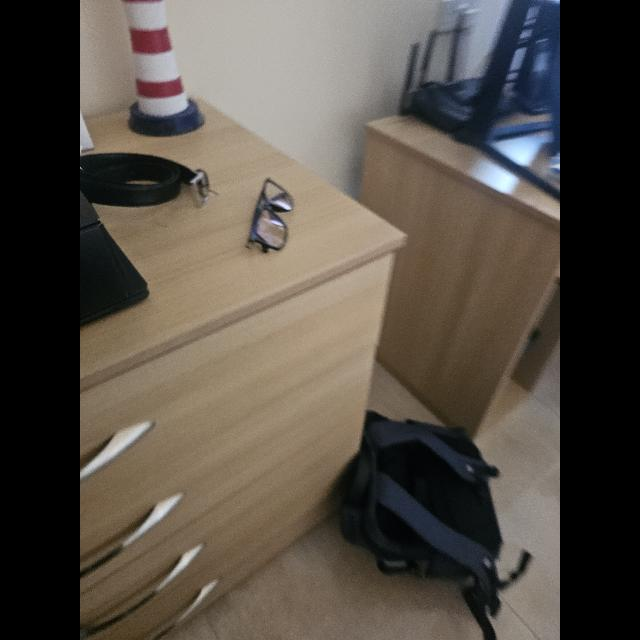glasses: (246, 178, 294, 252)
